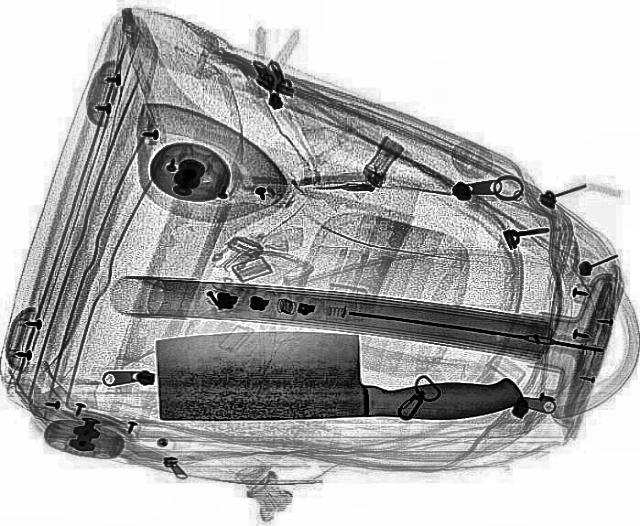Knife: (150, 330, 522, 420)
